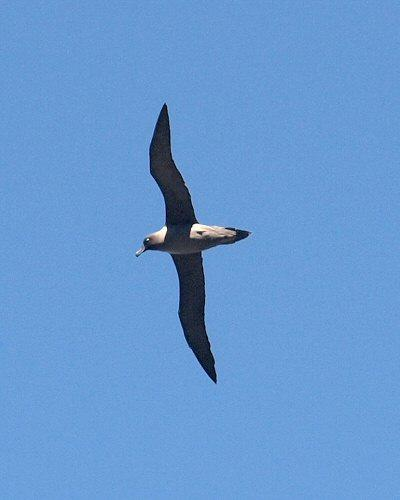003.Sooty_Albatross: (134, 105, 250, 386)
